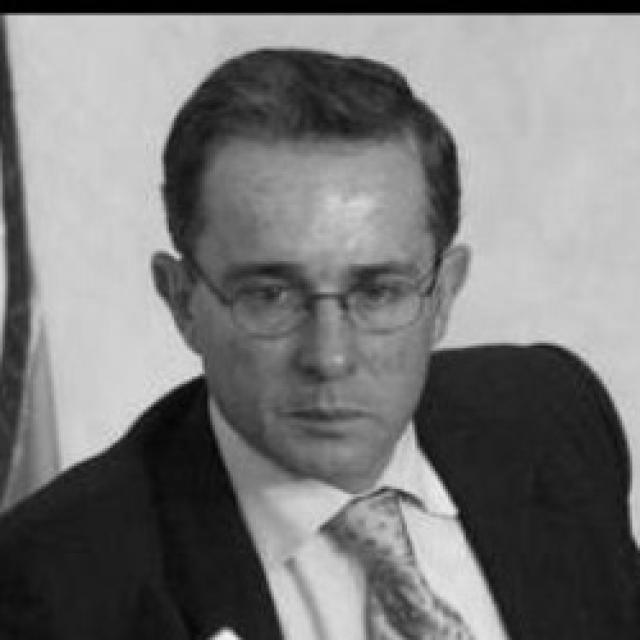real: (172, 113, 456, 483), (217, 270, 422, 334)
